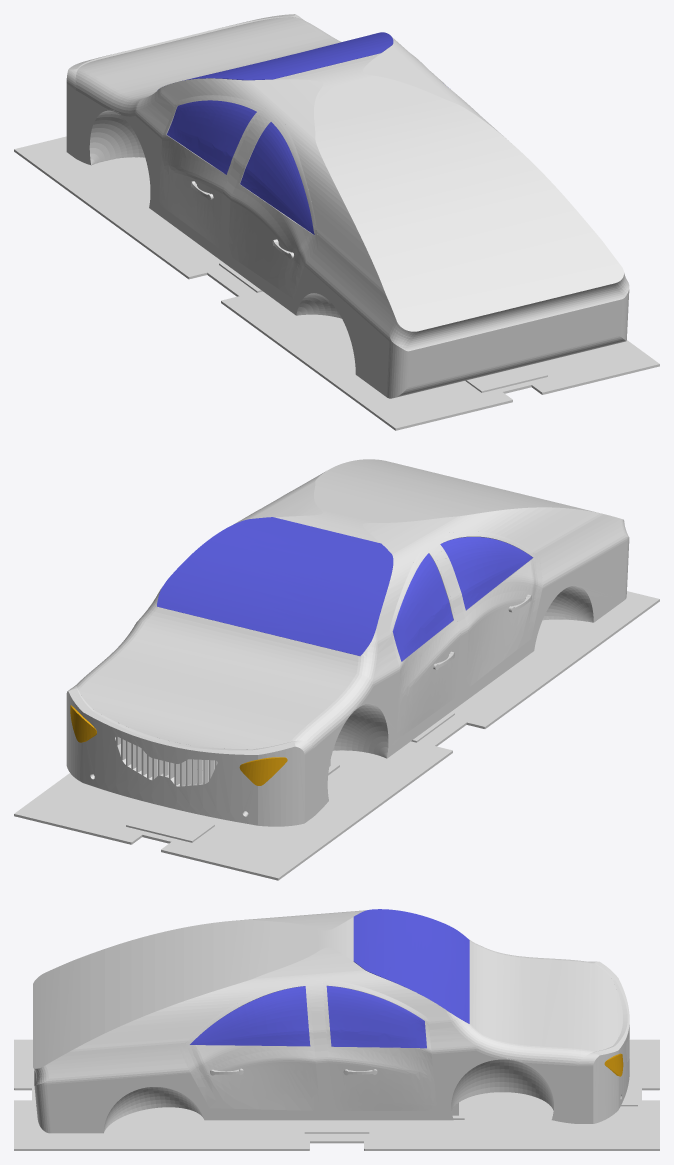
Rendered from Car&Skid.fbx.
3 views of the same model, one above another, from view 1: azimuth 30°, elevation 25°; view 2: azimuth 150°, elevation 25°; view 3: azimuth 270°, elevation 25° (orthographic). The views are drawn at different scales.
Visible parts, largest first — view 1: Car Body_BattaryHoleAllCATPart.007, Car Body_BattaryHoleAllCATPart.008, Car Body_BattaryHoleAllCATPart.002, Car Body_BattaryHoleAllCATPart.001, Car Body_BattaryHoleAllCATPart.006, Car Body_BattaryHoleAllCATPart.005; view 2: Car Body_BattaryHoleAllCATPart.007, Car Body_BattaryHoleAllCATPart.008, Car Body_BattaryHoleAllCATPart.006, Car Body_BattaryHoleAllCATPart.005, Car Body_BattaryHoleAllCATPart.002, Car Body_BattaryHoleAllCATPart.001; view 3: Car Body_BattaryHoleAllCATPart.007, Car Body_BattaryHoleAllCATPart.008, Car Body_BattaryHoleAllCATPart.004, Car Body_BattaryHoleAllCATPart.003, Car Body_BattaryHoleAllCATPart.006, Car Body_BattaryHoleAllCATPart.005.
Boxes of the visible parts, x1,y1,x2,y2 form: Car Body_BattaryHoleAllCATPart.007: [75, 17, 629, 398]; Car Body_BattaryHoleAllCATPart.008: [14, 136, 659, 430]; Car Body_BattaryHoleAllCATPart.002: [228, 114, 319, 298]; Car Body_BattaryHoleAllCATPart.001: [159, 95, 265, 248]; Car Body_BattaryHoleAllCATPart.006: [158, 32, 393, 89]; Car Body_BattaryHoleAllCATPart.005: [66, 14, 304, 158]; Car Body_BattaryHoleAllCATPart.007: [76, 459, 629, 816]; Car Body_BattaryHoleAllCATPart.008: [14, 591, 659, 880]; Car Body_BattaryHoleAllCATPart.006: [157, 517, 393, 655]; Car Body_BattaryHoleAllCATPart.005: [66, 685, 313, 826]; Car Body_BattaryHoleAllCATPart.002: [431, 531, 542, 689]; Car Body_BattaryHoleAllCATPart.001: [389, 545, 460, 737]; Car Body_BattaryHoleAllCATPart.007: [33, 910, 622, 1133]; Car Body_BattaryHoleAllCATPart.008: [14, 1039, 659, 1150]; Car Body_BattaryHoleAllCATPart.004: [179, 979, 320, 1110]; Car Body_BattaryHoleAllCATPart.003: [322, 979, 436, 1110]; Car Body_BattaryHoleAllCATPart.006: [353, 909, 469, 1023]; Car Body_BattaryHoleAllCATPart.005: [578, 961, 629, 1123].
Size of the model in its own units: 2 by 1.35 by 5.
